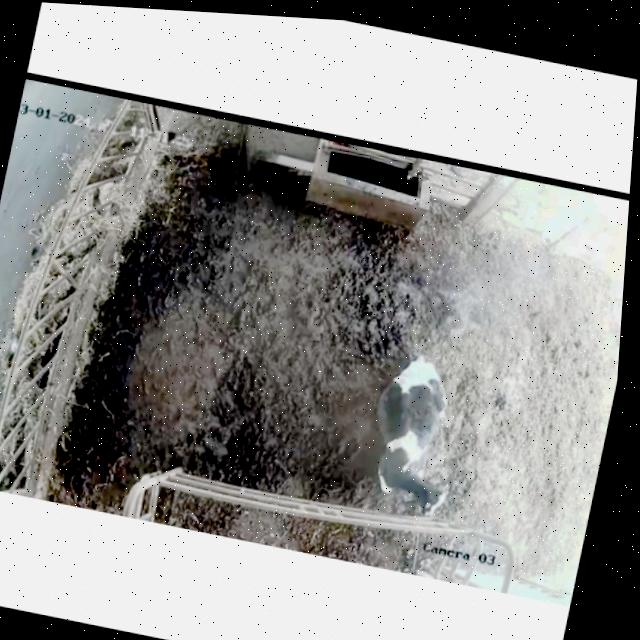lay: (347, 329, 487, 518)
